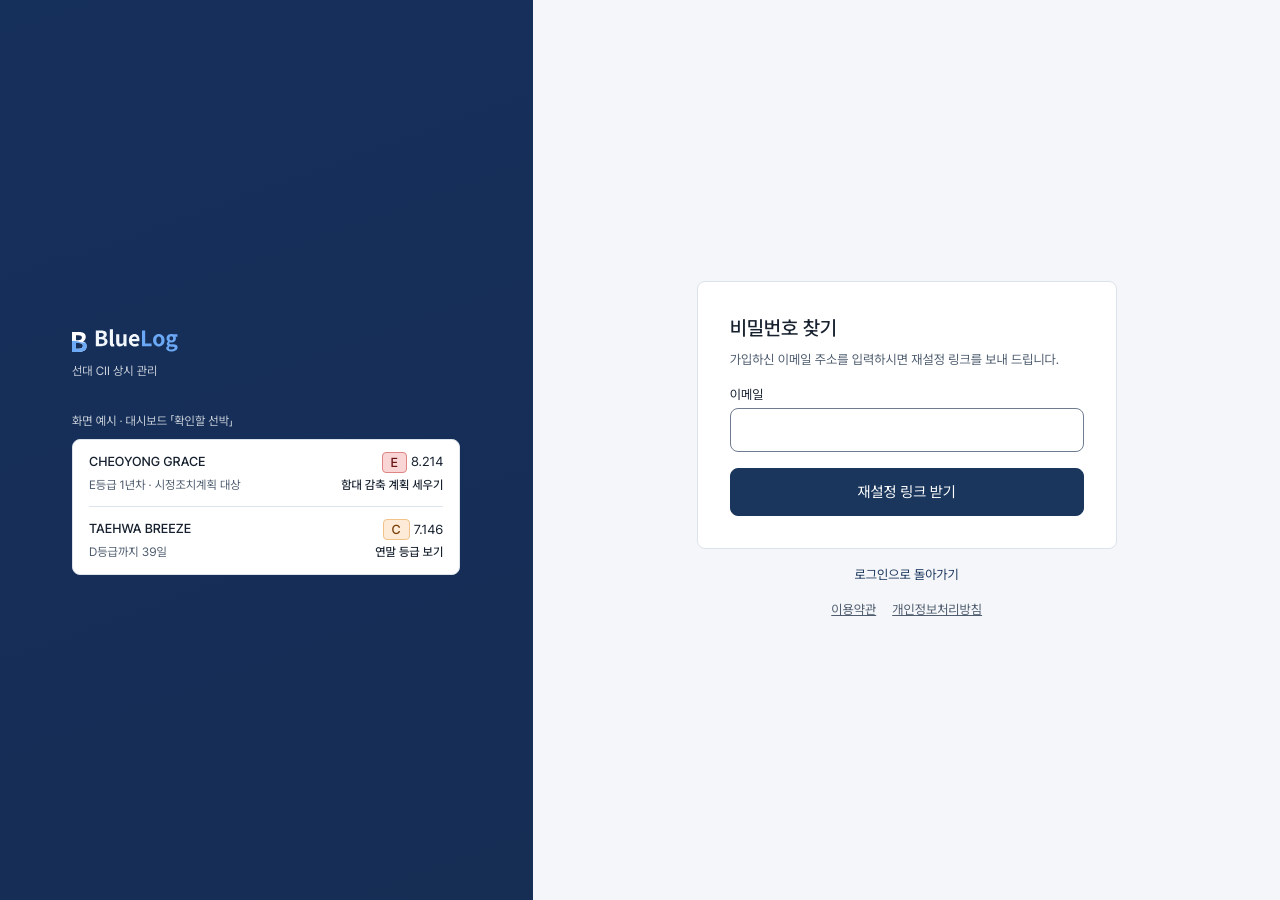
⑴ 재설정 메일 요청 — 토큰 없음 › 성공하면 서버 문구를 그대로 보이고, 화면이 가입 여부를 가르는 문장을 만들지 않는다
Type "user@example.com" into the field labelled "이메일" at (907, 430), box [730, 408, 1084, 452]
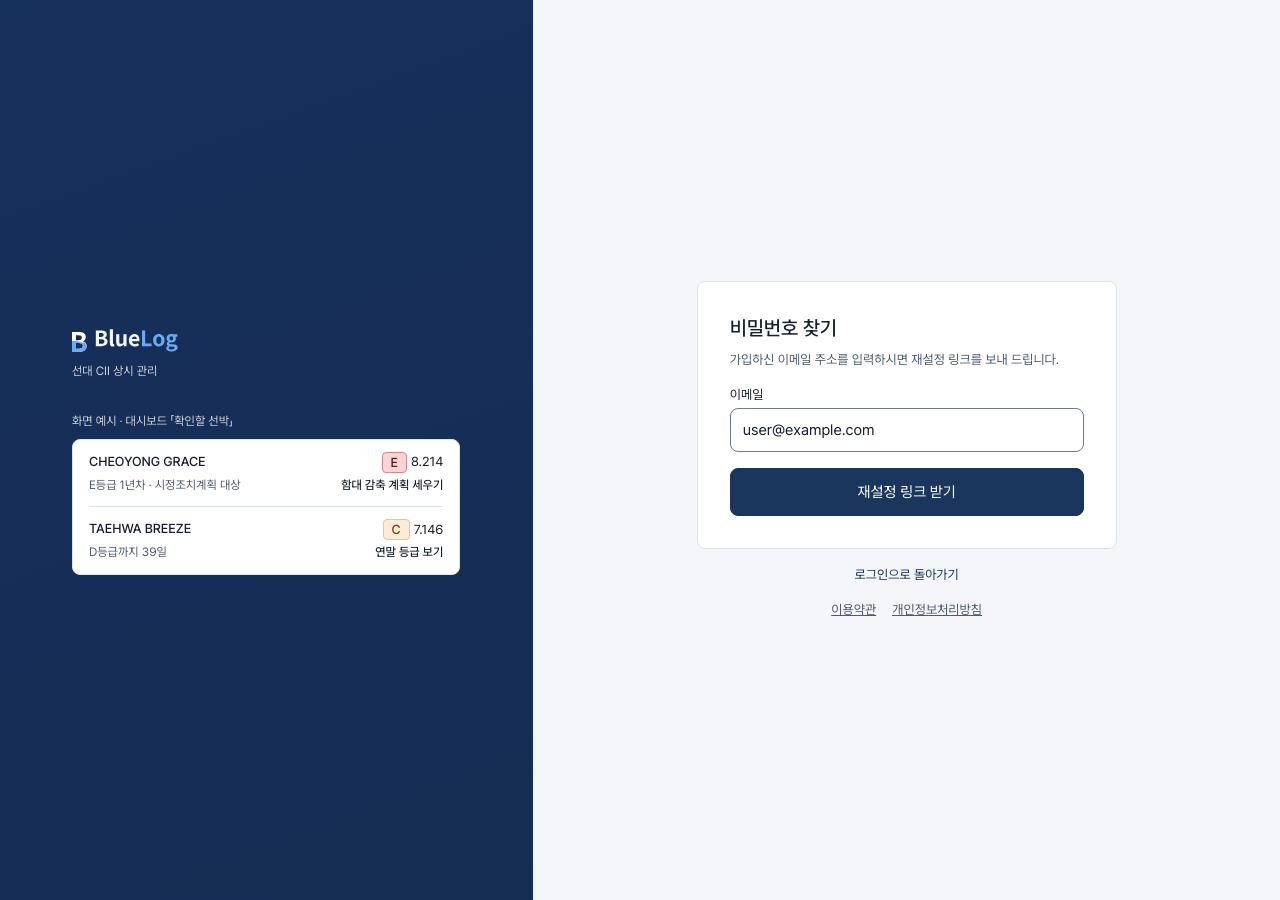
Click the button with test id "reset-request-submit" at (907, 492), box [730, 468, 1084, 516]
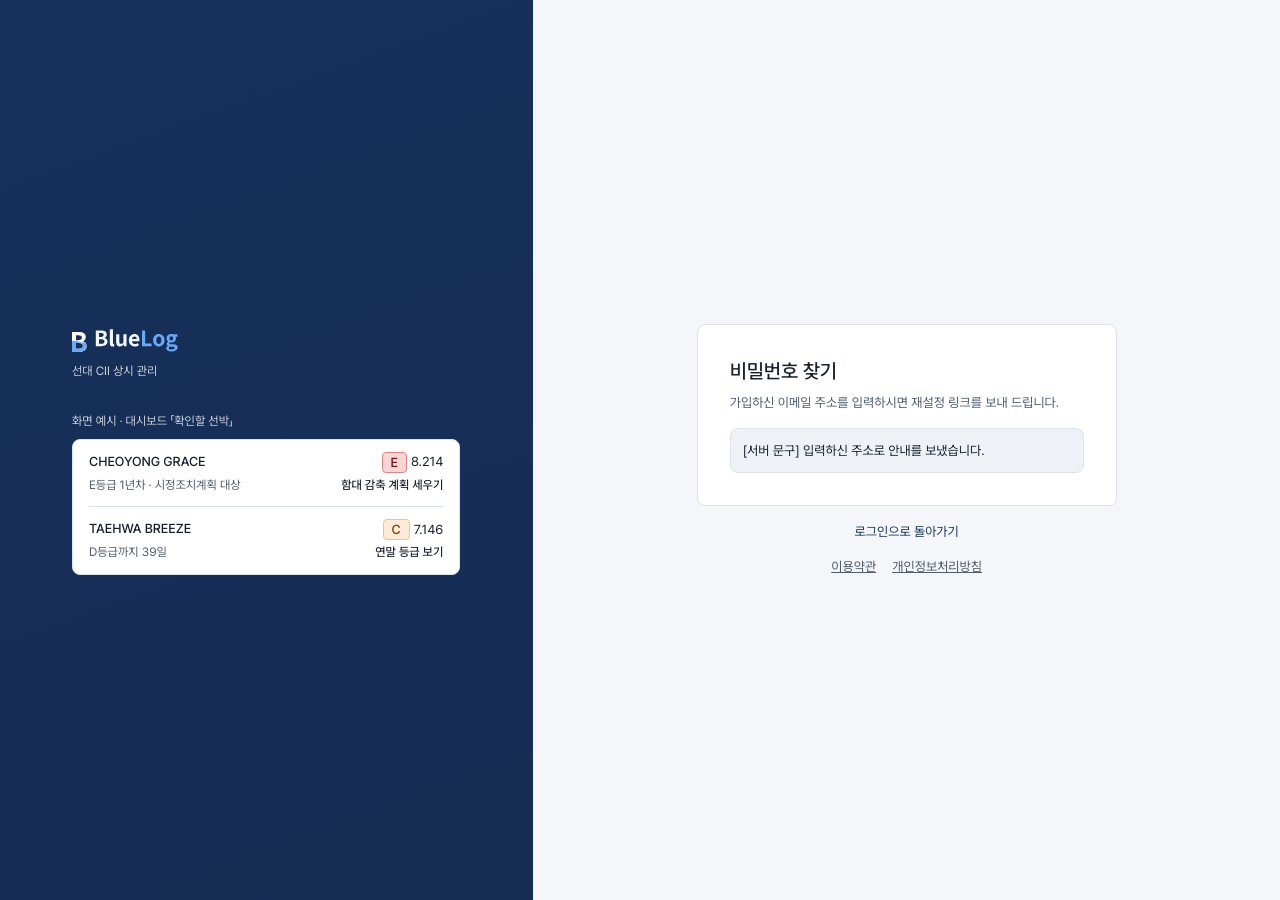
expect the message reads "[서버 문구] 입력하신 주소로 안내를 보냈습니다.": met, box [743, 443, 985, 458]
expect the button with test id "reset-request-submit" is gone: met
